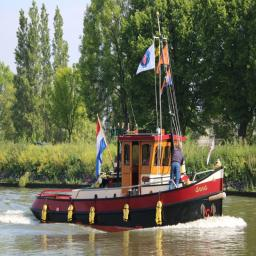tugboat: (30, 11, 229, 238)
